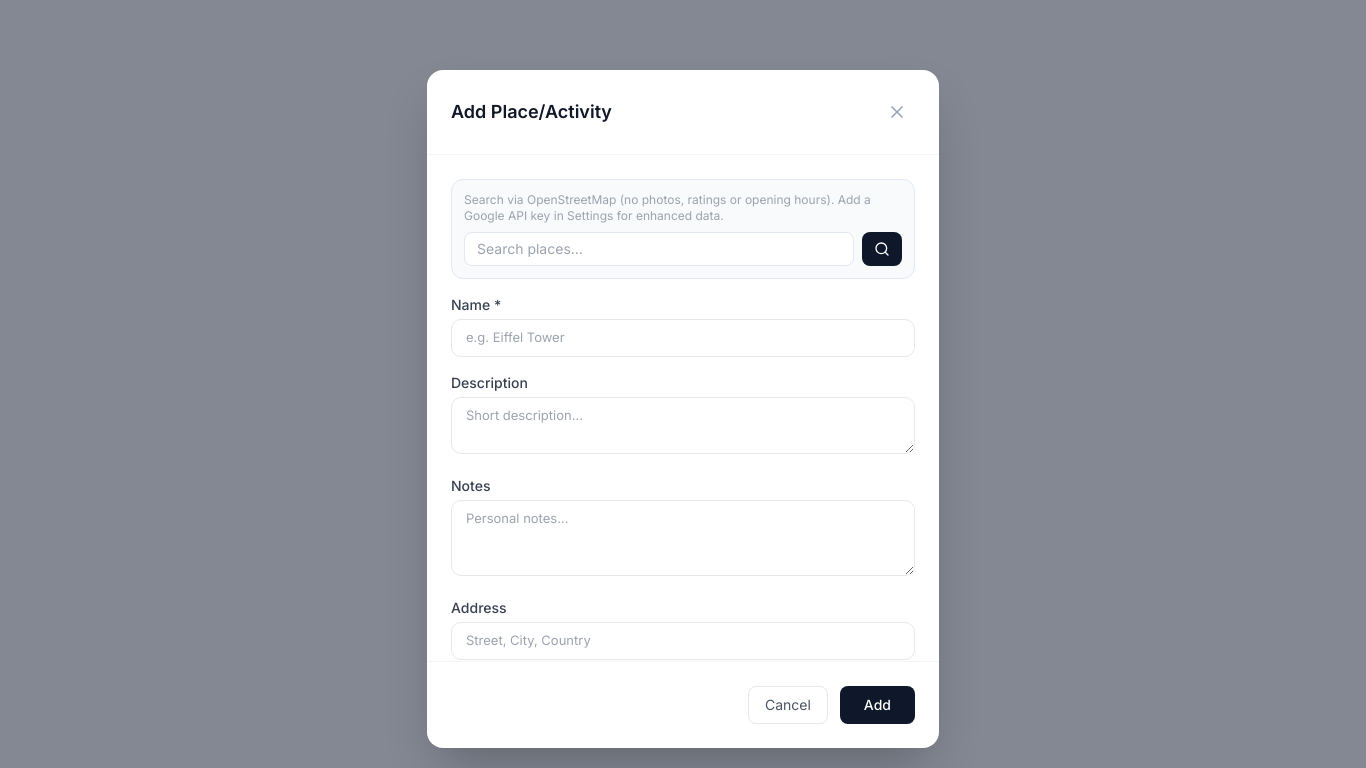
PlaceFormModal › FE-PLANNER-PLACEFORM-035: save button shows "Saving..." while saving
This screenshot has width=1366, height=768.
Type "Notre Dame" into the field with placeholder "e.g. Eiffel Tower" at (683, 338), box [451,319,915,356]
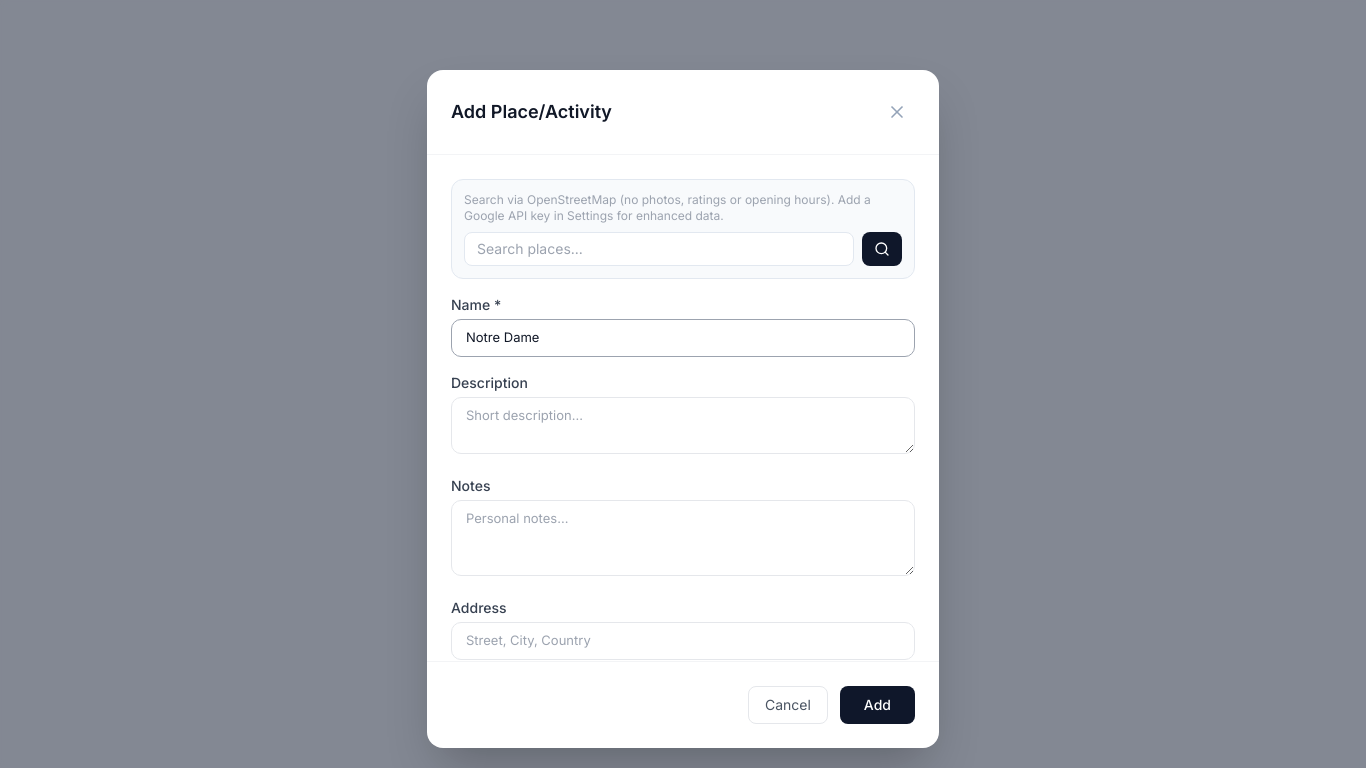
Click the button "Add" at (877, 705), box [840,686,915,724]
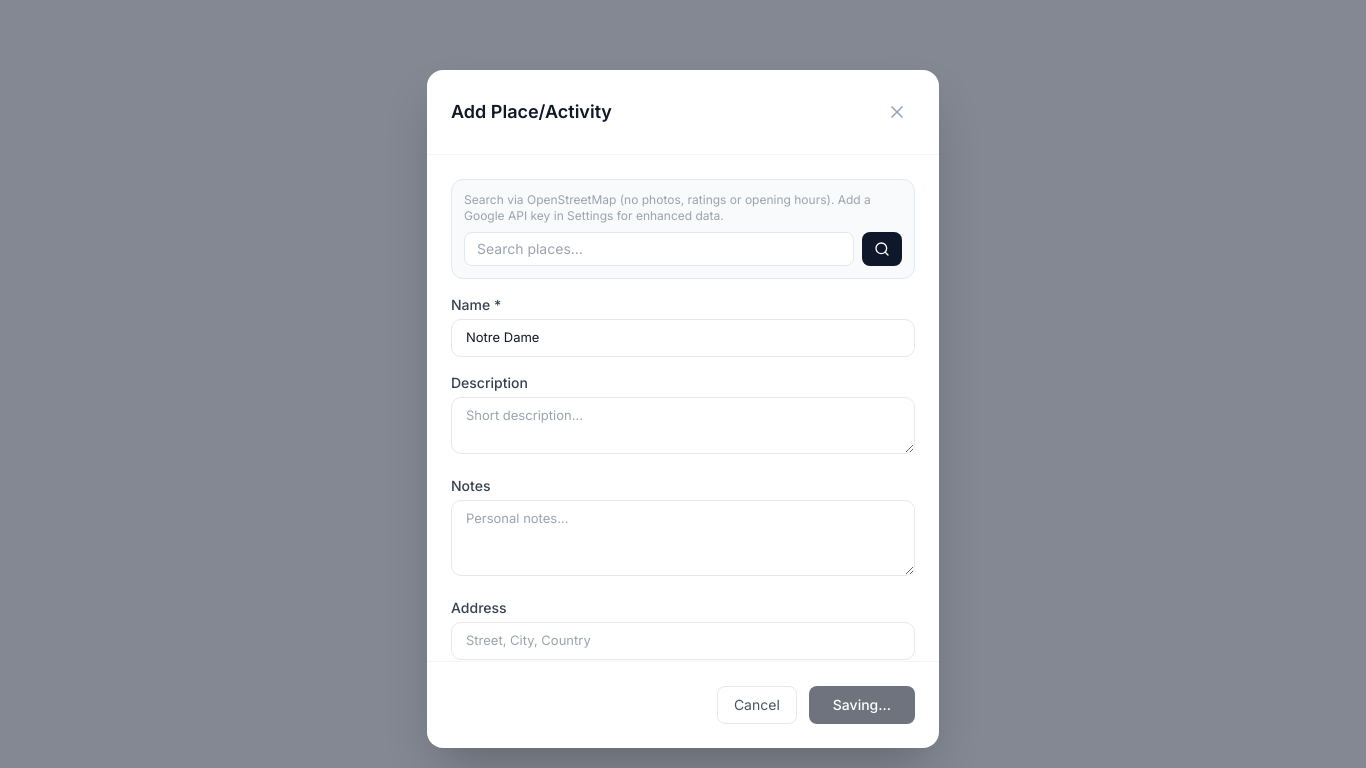
Now the button "Saving..." is shown, box [809,686,915,724]
